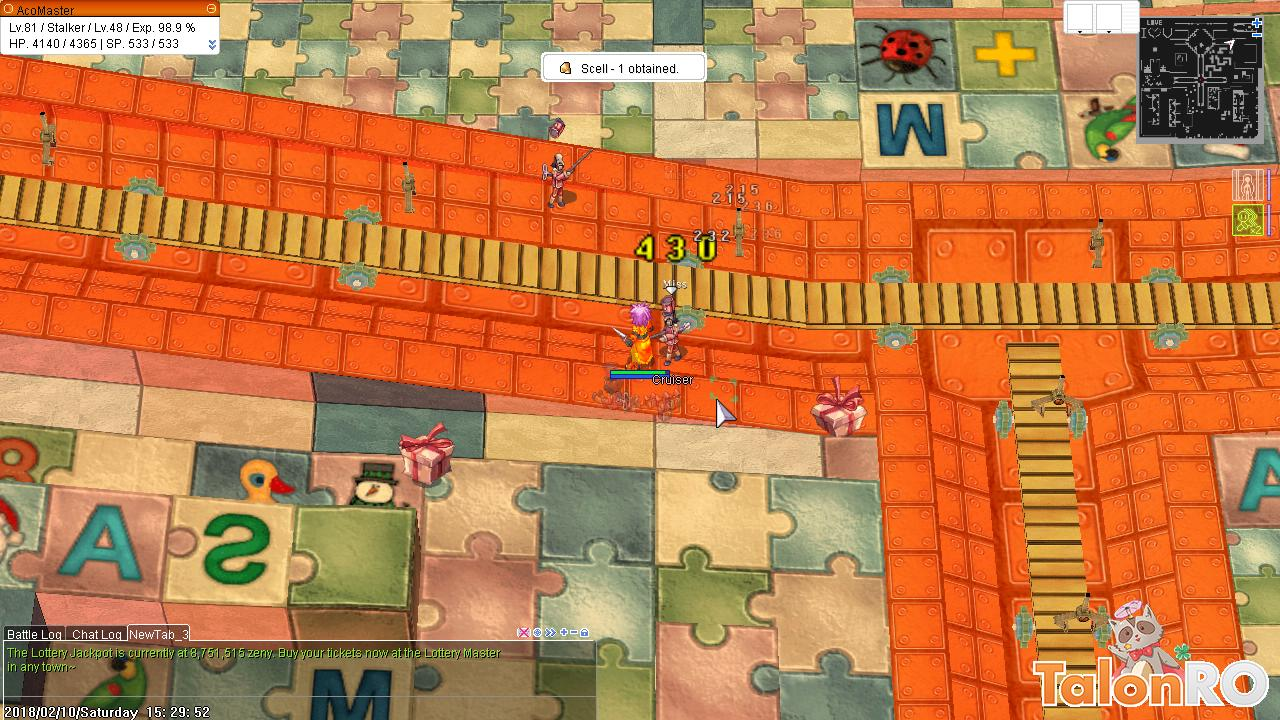mob: (540, 111, 592, 212), (650, 285, 694, 372)
myst_case: (396, 415, 458, 493), (809, 369, 870, 445)
